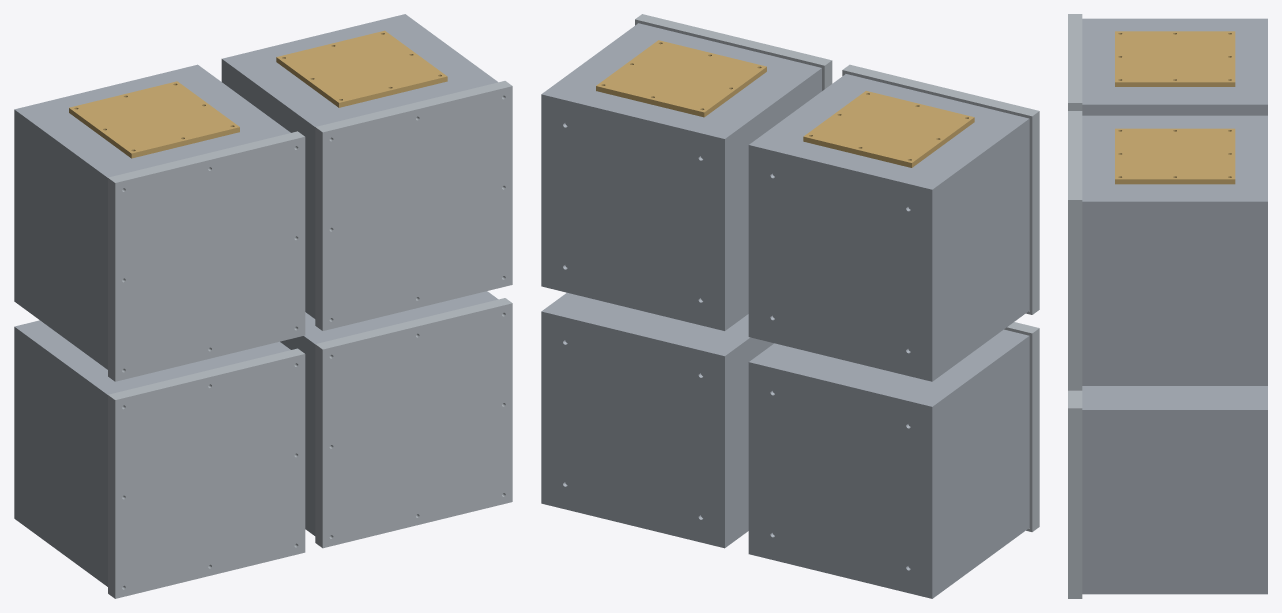
File: assembly.glb
The picture shows the model from 3 angles, left to right: view 1: azimuth 30°, elevation 25°; view 2: azimuth 150°, elevation 25°; view 3: azimuth 270°, elevation 25°; orthographic projection. The views are drawn at different scales.
Visible parts, largest first — view 1: cell-1-lid, cell-2-lid, cell-3-lid, cell-4-lid, cell-3-body, cell-1-body, cell-4-body, cell-4-interface-cap, cell-3-interface-cap, cell-2-body; view 2: cell-3-body, cell-1-body, cell-4-body, cell-2-body, cell-3-interface-cap, cell-4-interface-cap, cell-3-lid, cell-1-lid, cell-4-lid; view 3: cell-4-body, cell-2-body, cell-3-body, cell-4-interface-cap, cell-3-interface-cap, cell-4-lid, cell-2-lid, cell-3-lid.
Boxes of the visible parts, bbox=[...] form: cell-1-lid: bbox=[108, 348, 305, 598]; cell-2-lid: bbox=[315, 298, 512, 548]; cell-3-lid: bbox=[108, 131, 305, 381]; cell-4-lid: bbox=[315, 81, 512, 330]; cell-3-body: bbox=[14, 64, 290, 369]; cell-1-body: bbox=[14, 320, 290, 586]; cell-4-body: bbox=[221, 14, 497, 318]; cell-4-interface-cap: bbox=[276, 30, 447, 107]; cell-3-interface-cap: bbox=[69, 81, 239, 158]; cell-2-body: bbox=[280, 291, 498, 535]; cell-3-body: bbox=[748, 74, 1029, 381]; cell-1-body: bbox=[748, 329, 1029, 598]; cell-4-body: bbox=[541, 23, 821, 330]; cell-2-body: bbox=[541, 292, 773, 548]; cell-3-interface-cap: bbox=[803, 91, 974, 167]; cell-4-interface-cap: bbox=[596, 40, 766, 117]; cell-3-lid: bbox=[842, 64, 1039, 314]; cell-1-lid: bbox=[1004, 322, 1039, 531]; cell-4-lid: bbox=[635, 14, 832, 90]; cell-4-body: bbox=[1082, 115, 1267, 385]; cell-2-body: bbox=[1082, 386, 1267, 594]; cell-3-body: bbox=[1082, 18, 1267, 115]; cell-4-interface-cap: bbox=[1115, 128, 1235, 184]; cell-3-interface-cap: bbox=[1115, 31, 1235, 86]; cell-4-lid: bbox=[1068, 111, 1082, 390]; cell-2-lid: bbox=[1068, 390, 1082, 598]; cell-3-lid: bbox=[1068, 14, 1082, 110].
Bounding box in the file's own units: 0.498 × 0.502 × 0.226.
